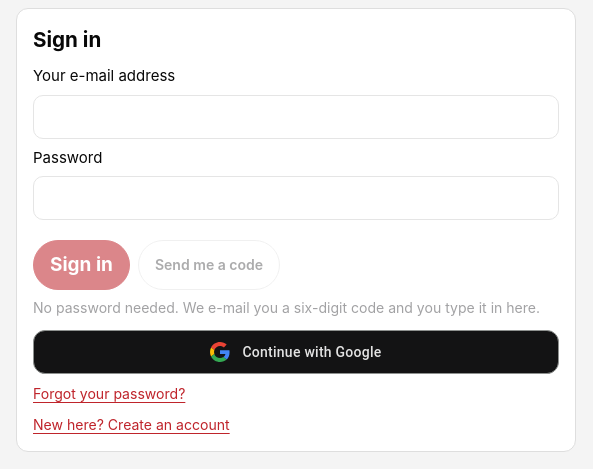
Test: 33.1 rule 5 — the code door on the sign-in page (the invitation: enter this e-mail on the sign-in page and we will send a code) › Send me a code (account.code.request, data-testid account-code-request, type=button) sits beside Sign in on the sign-in form only, wants the e-mail alone, and t
Later steps or results of the test are not shown.
Expected: the button with test id "account-code-request" reads "Send me a code", 138,240 -> 280,290
Expected: the button with test id "account-code-request" is disabled, 138,240 -> 280,290
In the field labelled "Your e-mail address": (296, 117) 33,95 -> 559,139, type "Maya@Example.com"
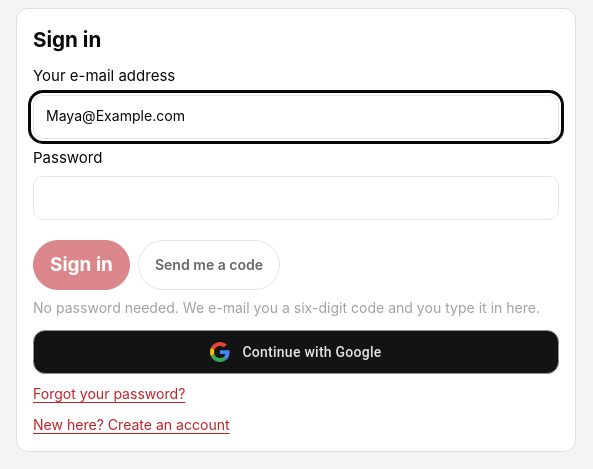
Expected: the button "Sign in" is disabled, 33,240 -> 130,290
Expected: the button with test id "account-code-request" is enabled, 138,240 -> 280,290
